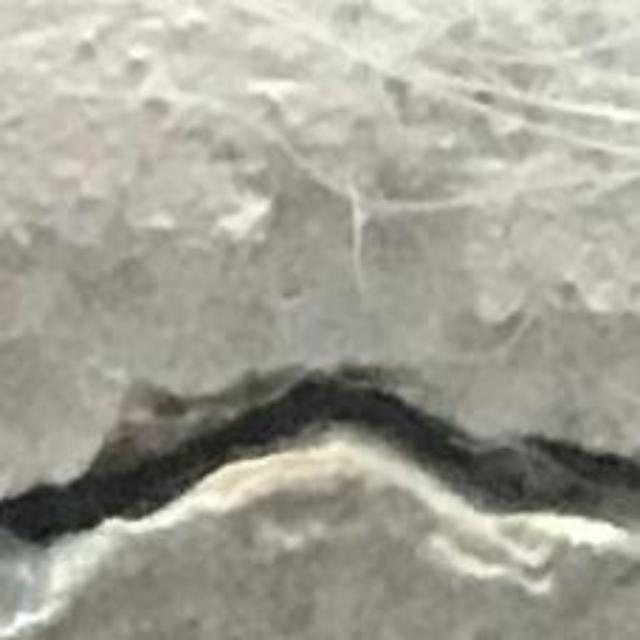crack: (0, 367, 639, 628)
